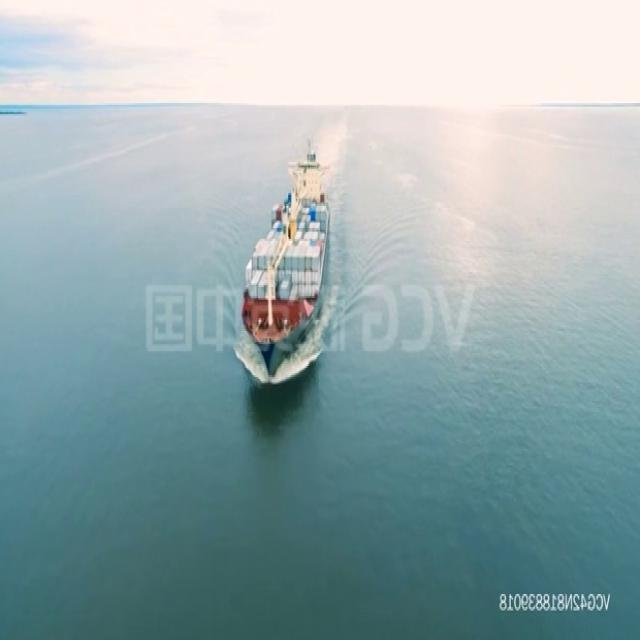cargoship: (240, 140, 332, 373)
